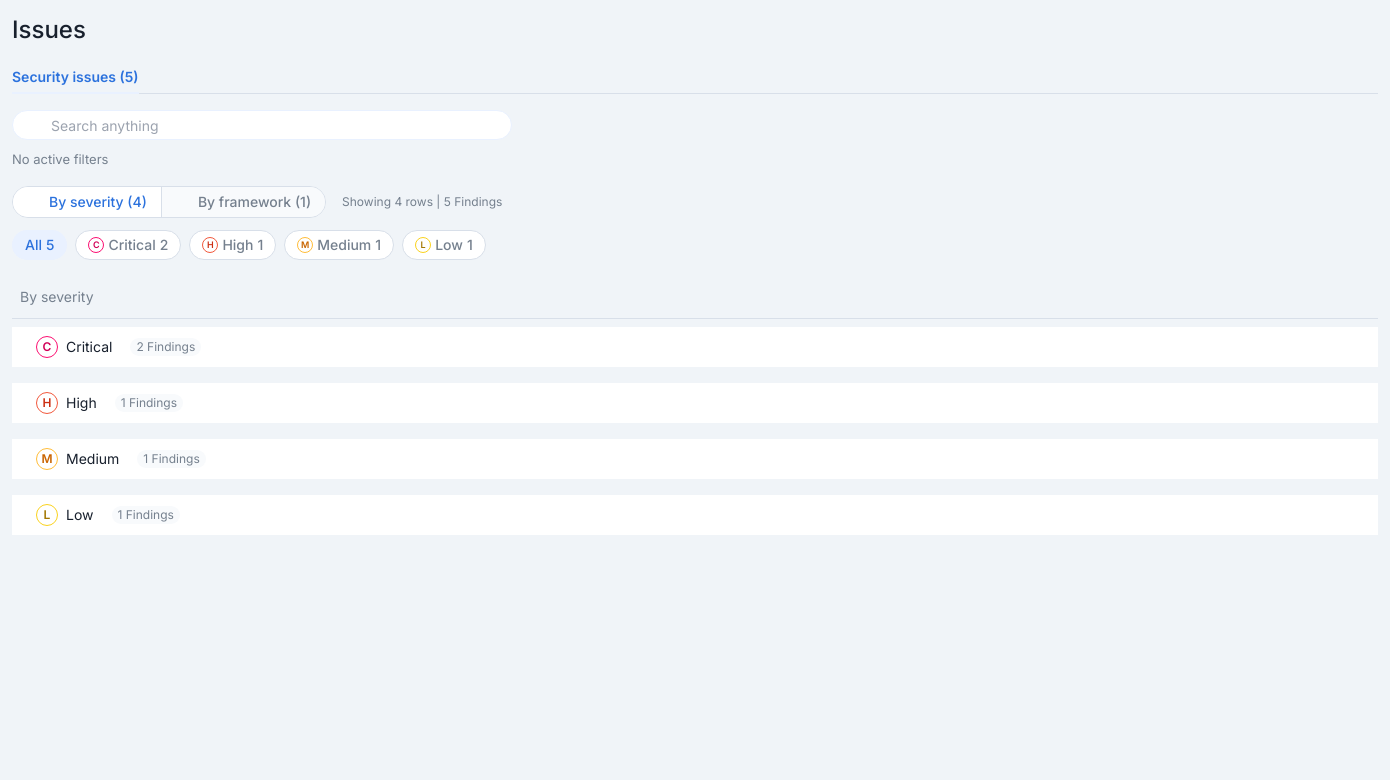
Test: IssuesTab — real title search › shows the no-match copy and keeps the search clearable when nothing matches
In the field named "search issues by title": point(275, 125) [51, 114, 499, 136], type "zzz-nope"
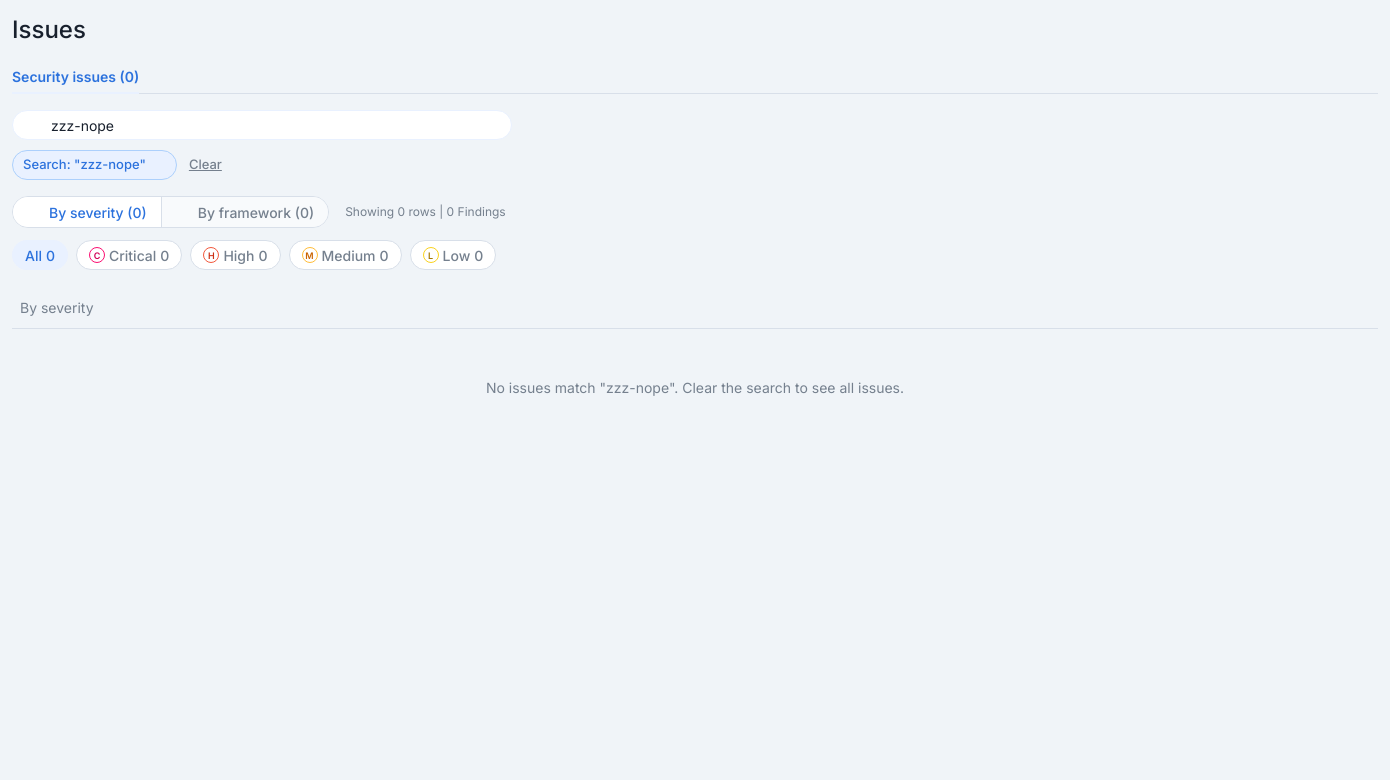
Check: the text "No issues match \"zzz-nope\"." is shown, box [486, 379, 904, 396]
